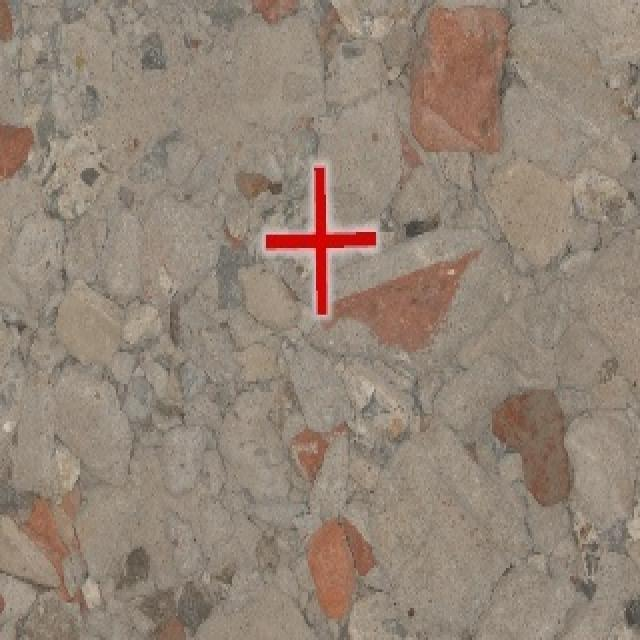x_marker: (263, 164, 375, 313)
